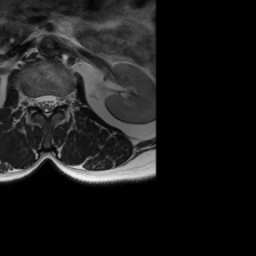CCS_normal: (43, 89, 50, 120)
LFS_normal: (58, 89, 64, 111)
LLS_normal: (50, 88, 57, 113)
RFS_normal: (28, 90, 35, 112)
RLS_normal: (35, 90, 43, 113)
